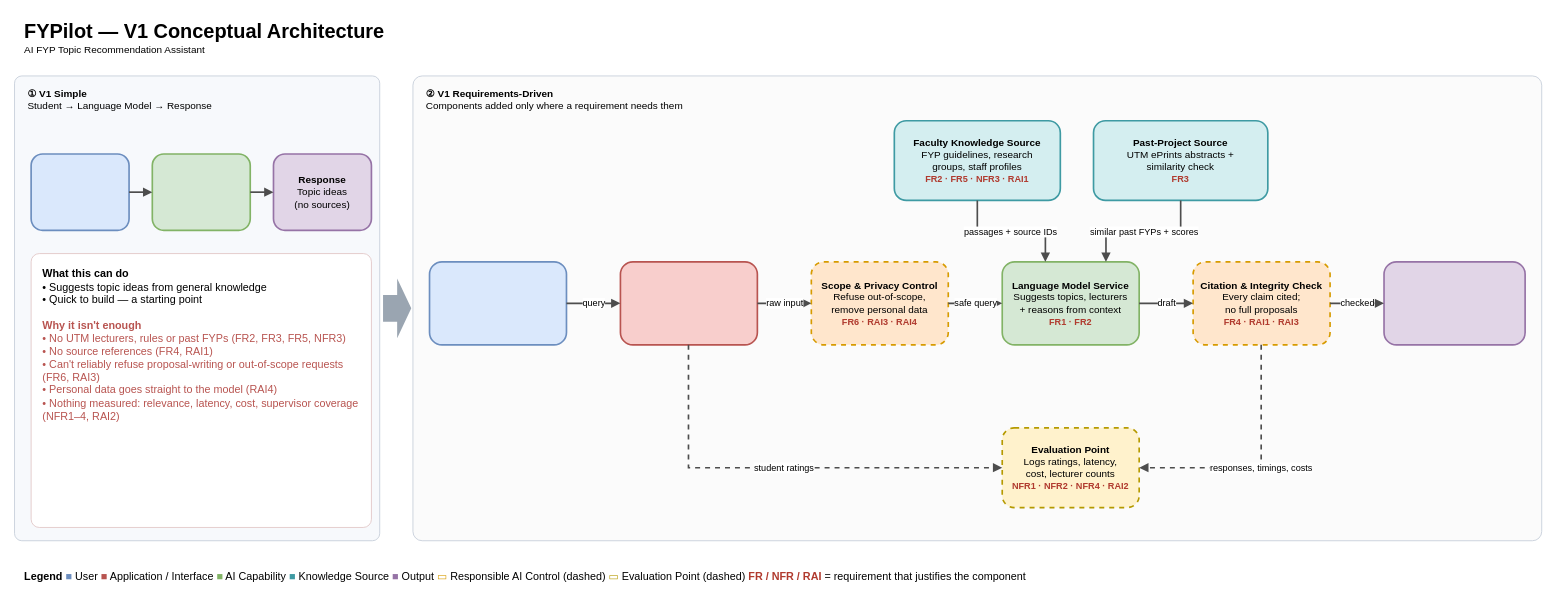
This 1556x603 diagram has some shape labels left out. The shapes that lost their labels are listed below. From the top down, each one's centre as x and y in pixels, then its label:
At pixel 79 192: "Student Asks for topic ideas".
At pixel 201 192: "Language Model Service".
At pixel 497 303: "Student Enters interests, skills, questions".
At pixel 688 303: "FYPilot Application Chat + student profile form FR1".
At pixel 1454 303: "Response 3 topics + lecturers + similar past FYPs + sources FR1–FR4".
